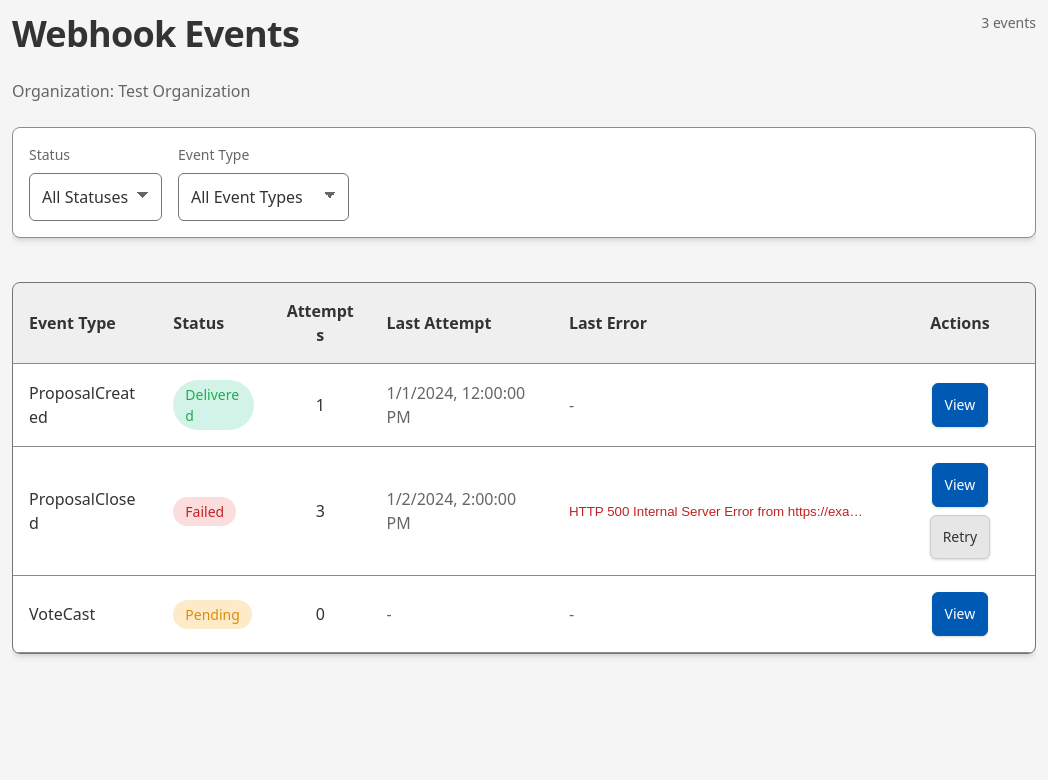
AdminWebhookEventsPage › displays empty state with filter message when no events match filters
This screenshot has width=1048, height=780.
// Change status filter to something that returns no results
Select "Failed" in the dropdown labelled "Status" at (96, 197), box [29,173,162,221]
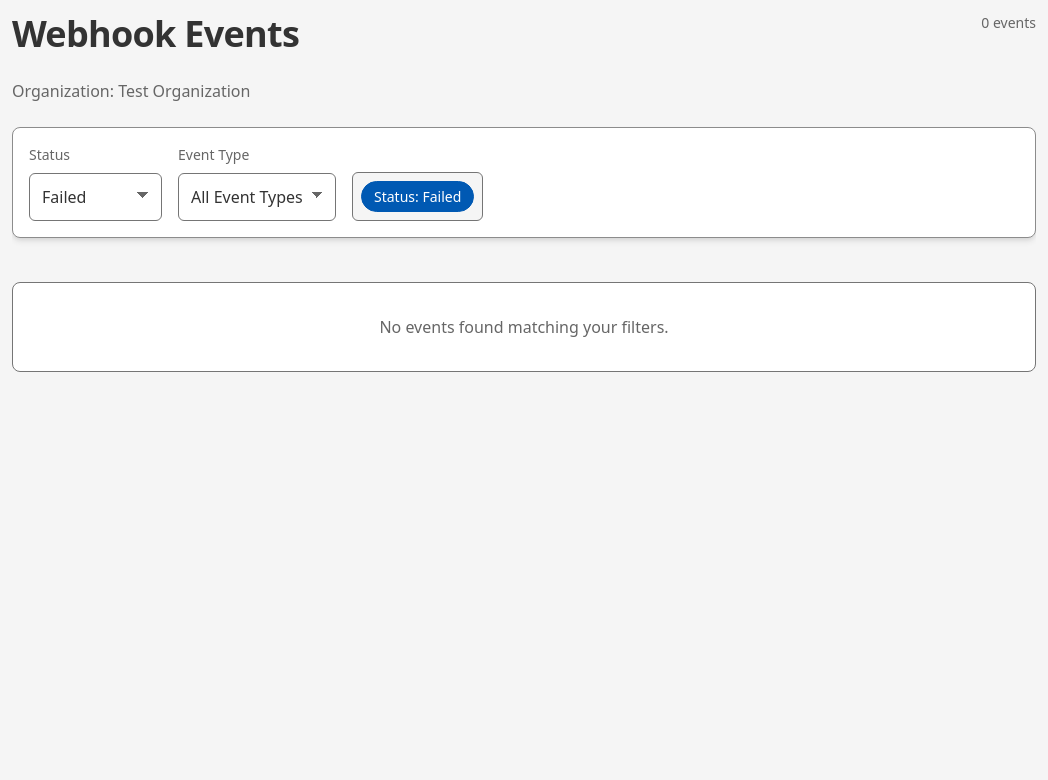
Expected: the text "No events found matching your filters." is shown, [12,282,1036,372]
